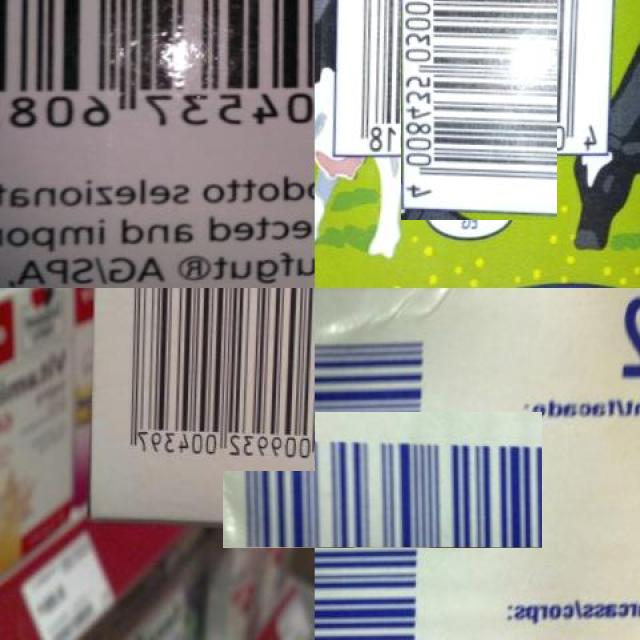Barcode: (268, 366, 496, 594), (0, 0, 315, 139), (369, 0, 589, 188), (112, 288, 315, 471)
